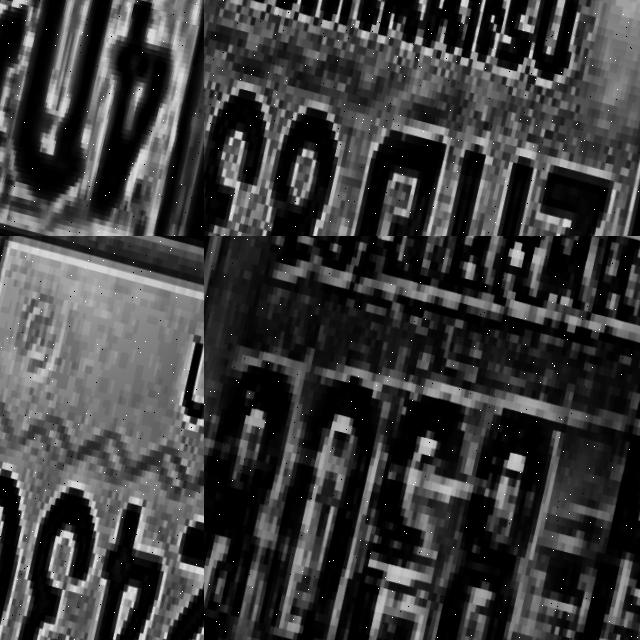license-plate: (204, 236, 640, 640), (204, 0, 640, 236), (0, 236, 204, 640), (0, 0, 204, 236)
